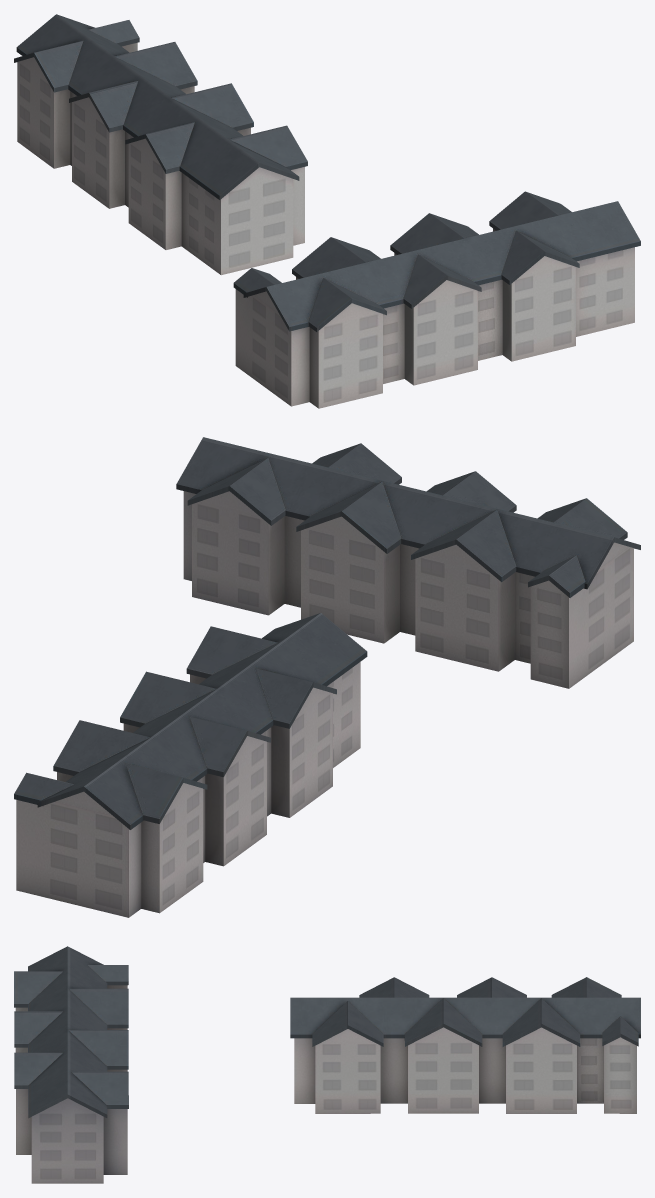
The model's file is houses.gltf.
3 views of the same model, one above another, from view 1: azimuth 30°, elevation 25°; view 2: azimuth 150°, elevation 25°; view 3: azimuth 270°, elevation 25° (orthographic). The views are drawn at different scales.
Parts seen in each view (by area): view 1: houses_s, houses_e; view 2: houses_s, houses_e; view 3: houses_e, houses_s.
Part boxes in pixels (x1=…): houses_s: x1=233, y1=191, x2=640, y2=408; houses_e: x1=14, y1=14, x2=307, y2=275; houses_s: x1=176, y1=437, x2=640, y2=688; houses_e: x1=14, y1=613, x2=367, y2=917; houses_e: x1=290, y1=977, x2=640, y2=1113; houses_s: x1=14, y1=946, x2=128, y2=1183.
Bounding box in the file's own units: 50.88 × 14.57 × 90.98.
Materials: 2 (2 with a texture image).
